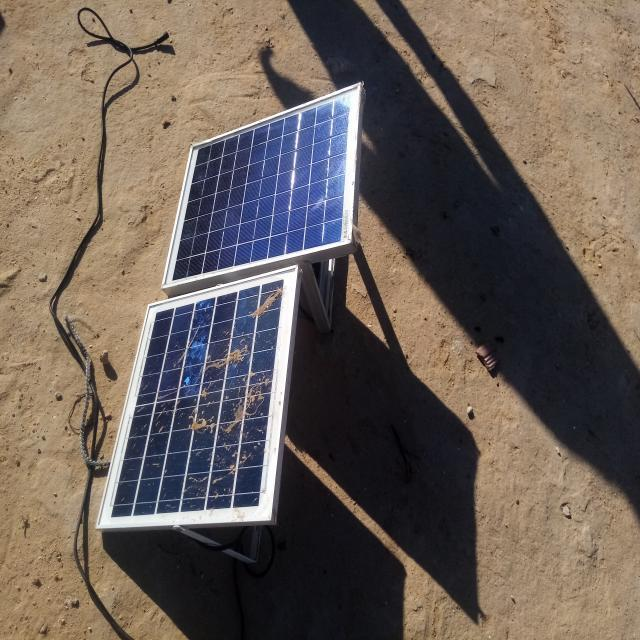Normal Solar Panel: (162, 82, 360, 285)
